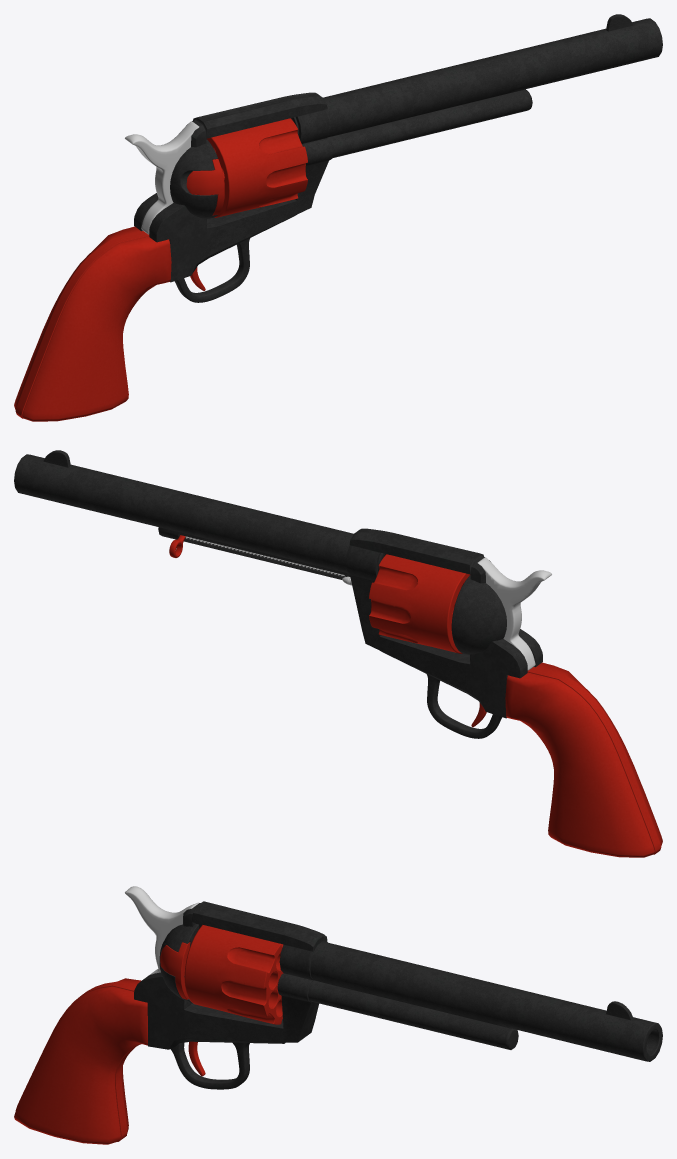
Rendered from devil's_gun.fbx.
3 views of the same model, one above another, from view 1: azimuth 30°, elevation 25°; view 2: azimuth 150°, elevation 25°; view 3: azimuth 330°, elevation 25° (orthographic).
Parts seen in each view (by area): view 1: Cylinder.001, Plane, Cylinder.002, Circle, Roundcube, Plane.001, Roundcube.002; view 2: Cylinder.001, Plane, Cylinder.002, Roundcube.001, Circle, Plane.001; view 3: Cylinder.001, Plane, Cylinder.002, Circle, Plane.001, Roundcube.002, Roundcube.
Part boxes in pixels (box(x1,y1,x2,y2)): Cylinder.001: box(134, 14, 662, 282); Plane: box(14, 226, 171, 421); Cylinder.002: box(207, 118, 307, 217); Circle: box(125, 121, 199, 234); Roundcube: box(170, 139, 217, 218); Plane.001: box(174, 238, 250, 302); Roundcube.002: box(186, 159, 224, 215); Cylinder.001: box(14, 450, 542, 718); Plane: box(505, 662, 662, 857); Cylinder.002: box(369, 554, 469, 653); Roundcube.001: box(451, 575, 506, 654); Circle: box(477, 557, 551, 670); Plane.001: box(426, 674, 502, 738); Cylinder.001: box(134, 901, 662, 1061); Plane: box(14, 978, 147, 1144); Cylinder.002: box(184, 924, 283, 1024); Circle: box(125, 886, 198, 974); Plane.001: box(170, 1042, 249, 1089); Roundcube.002: box(160, 942, 190, 999); Roundcube: box(159, 924, 198, 1002).
Size of the model in its own units: 473 by 185 by 57.88.
